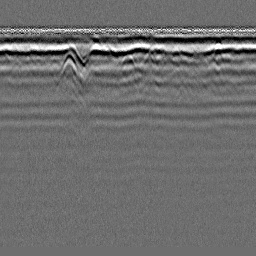cavity: (120, 54, 136, 68)
